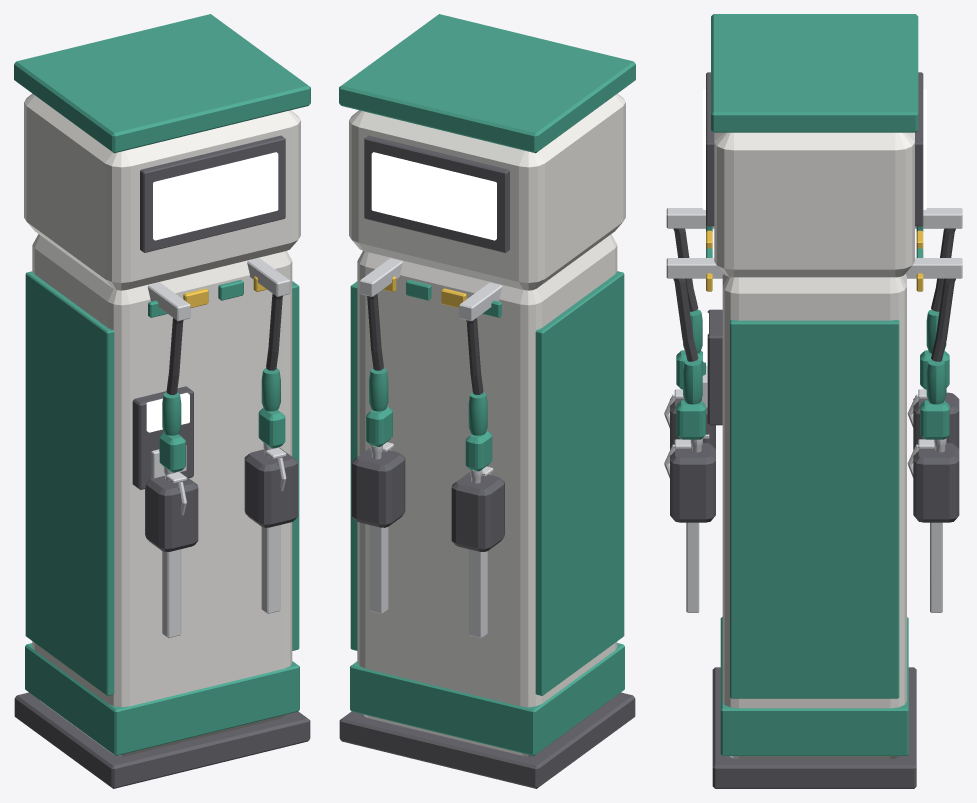
The model's file is petrol-station-and-forecourt-shop-fuel-pump-four-hose-a3b0d5a7__33941.glb.
The picture shows the model from 3 angles, left to right: view 1: azimuth 30°, elevation 25°; view 2: azimuth 150°, elevation 25°; view 3: azimuth 270°, elevation 25°; orthographic projection. The views are drawn at different scales.
Visible parts, largest first — view 1: fuel-pump-four-hose, pump-nozzle/accent; view 2: fuel-pump-four-hose; view 3: fuel-pump-four-hose, pump-nozzle/accent.
Boxes of the visible parts, x1,y1,x2,y2 form: fuel-pump-four-hose: (14, 14, 310, 788); pump-nozzle/accent: (159, 392, 185, 472); fuel-pump-four-hose: (339, 14, 635, 788); fuel-pump-four-hose: (664, 14, 962, 788); pump-nozzle/accent: (676, 309, 705, 389).
Size of the model in its own units: 0.7201 by 2.27 by 0.9072.
